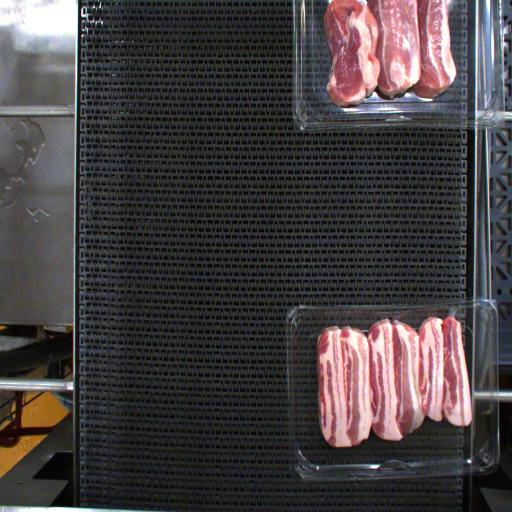packaging-error: (440, 307, 466, 326)
